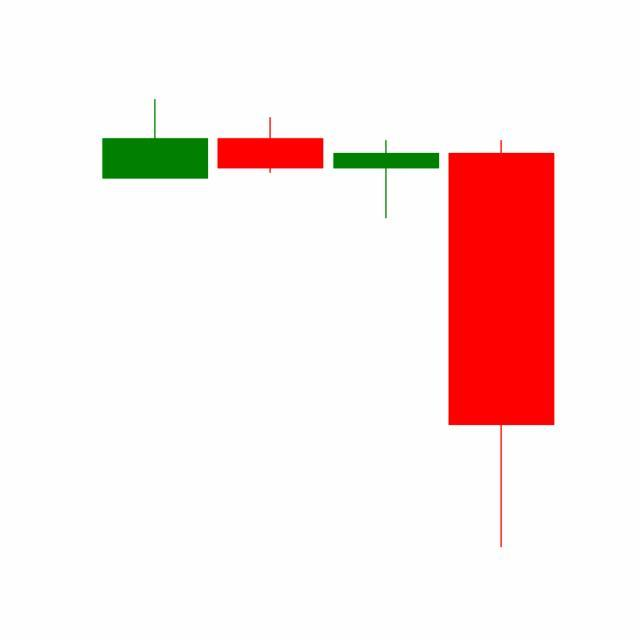Hammer: (329, 139, 445, 221)
